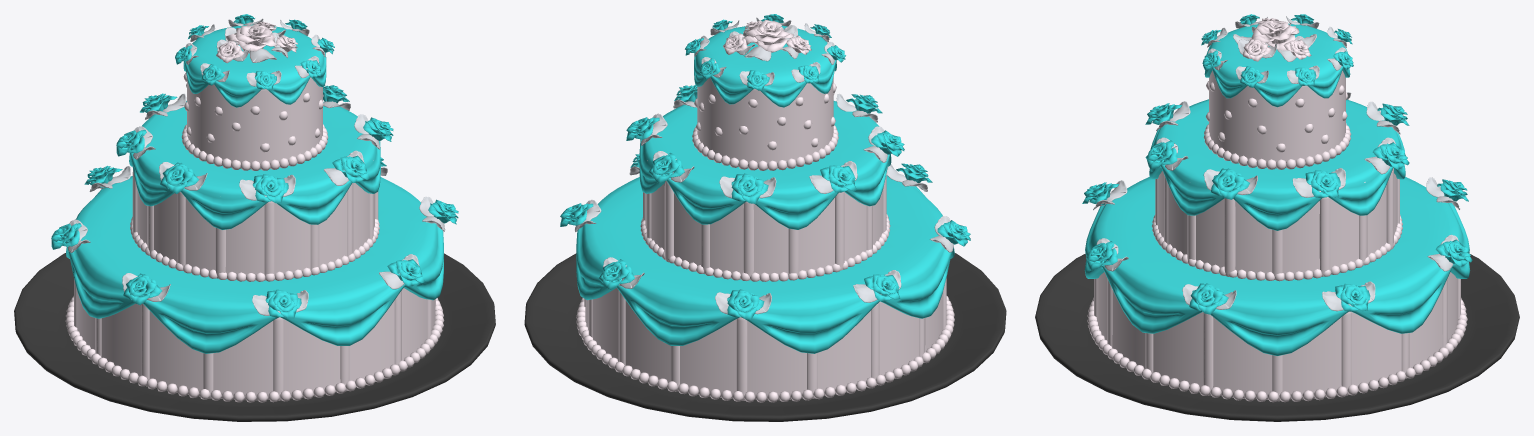
The model's file is cake.glb.
3 views of the same model, side by side, from view 1: azimuth 30°, elevation 25°; view 2: azimuth 150°, elevation 25°; view 3: azimuth 270°, elevation 25° (orthographic).
Parts seen in each view (by area): view 1: 13500_Wedding_Cake_v1_L1; view 2: 13500_Wedding_Cake_v1_L1; view 3: 13500_Wedding_Cake_v1_L1.
Part boxes in pixels (x1,y1,x2,y2): 13500_Wedding_Cake_v1_L1: (14,14,495,421); 13500_Wedding_Cake_v1_L1: (524,14,1006,421); 13500_Wedding_Cake_v1_L1: (1035,14,1519,421).
Size of the model in its own units: 0.3718 by 0.2613 by 0.3718.
